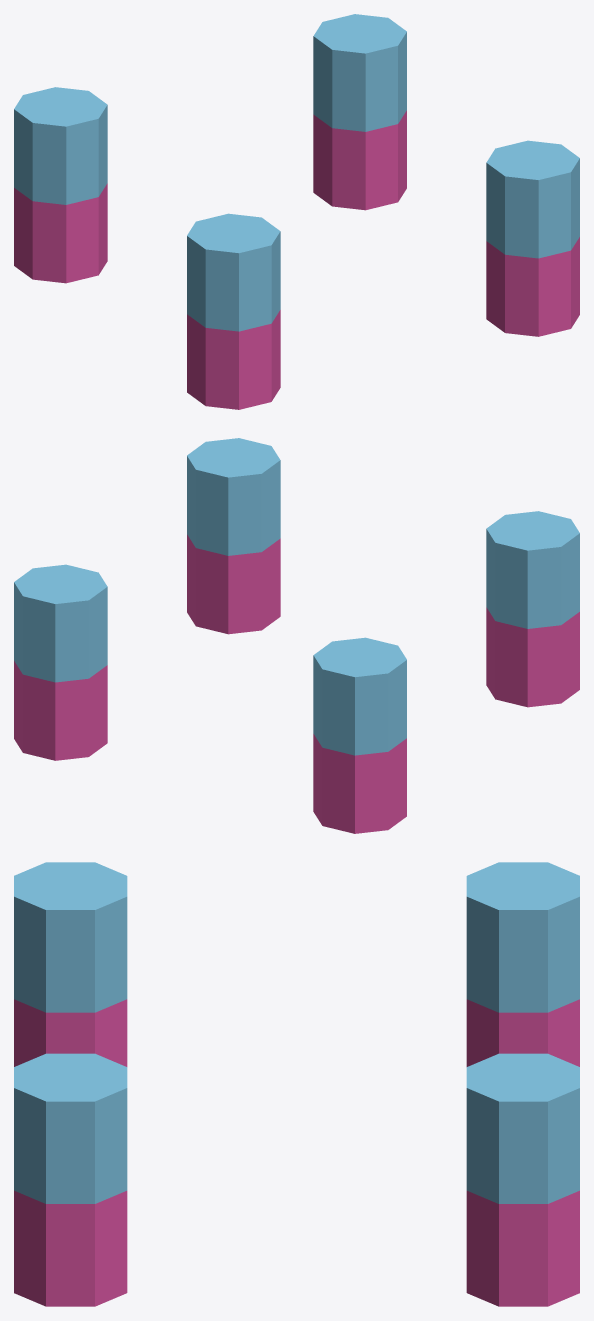
Rendered from Playground Support 1.fbx.
3 renders of one model, top to bottom at view 1: azimuth 30°, elevation 25°; view 2: azimuth 150°, elevation 25°; view 3: azimuth 270°, elevation 25°, orthographic. The views are drawn at different scales.
Visible parts, largest first — view 1: Playground Support 1; view 2: Playground Support 1; view 3: Playground Support 1.
Part boxes in pixels (bbox=[...]): Playground Support 1: bbox=[14, 14, 579, 409]; Playground Support 1: bbox=[14, 438, 579, 833]; Playground Support 1: bbox=[14, 862, 579, 1306].
Bounding box in the file's own units: 100 × 40 × 100.
